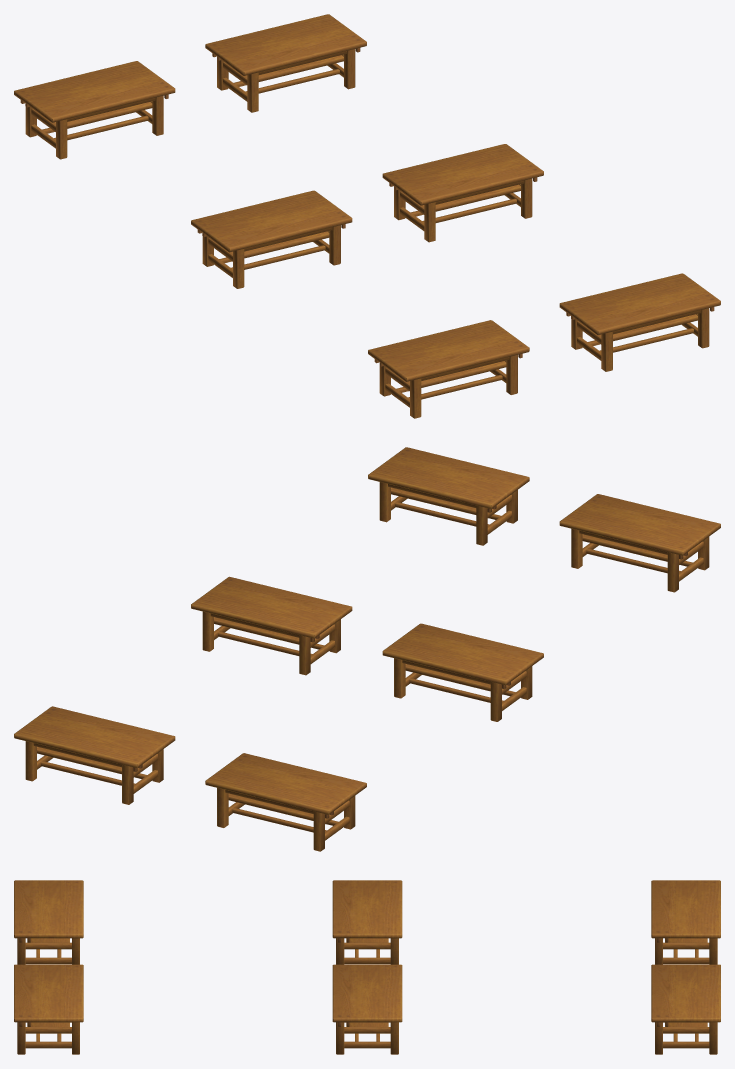
The model's file is Table_2.glb.
3 renders of one model, top to bottom at view 1: azimuth 30°, elevation 25°; view 2: azimuth 150°, elevation 25°; view 3: azimuth 270°, elevation 25°, orthographic. The views are drawn at different scales.
Parts seen in each view (by area): view 1: Table_low__mReBody.002, Table_low__mReBody.004, Table_low__mReBody.001, Table_low__mReBody, Table_low__mReBody.003, Table_low__mReBody.005; view 2: Table_low__mReBody.004, Table_low__mReBody.001, Table_low__mReBody.002, Table_low__mReBody.003, Table_low__mReBody.005, Table_low__mReBody; view 3: Table_low__mReBody.003, Table_low__mReBody, Table_low__mReBody.005, Table_low__mReBody.002, Table_low__mReBody.001, Table_low__mReBody.004.
Part boxes in pixels (x1=…): Table_low__mReBody.002: x1=191, y1=190, x2=352, y2=288; Table_low__mReBody.004: x1=368, y1=320, x2=529, y2=418; Table_low__mReBody.001: x1=14, y1=61, x2=175, y2=159; Table_low__mReBody: x1=205, y1=14, x2=366, y2=112; Table_low__mReBody.003: x1=382, y1=144, x2=543, y2=242; Table_low__mReBody.005: x1=559, y1=273, x2=720, y2=371; Table_low__mReBody.004: x1=559, y1=494, x2=720, y2=592; Table_low__mReBody.001: x1=205, y1=753, x2=366, y2=851; Table_low__mReBody.002: x1=382, y1=623, x2=543, y2=721; Table_low__mReBody.003: x1=191, y1=576, x2=352, y2=675; Table_low__mReBody.005: x1=368, y1=447, x2=529, y2=545; Table_low__mReBody: x1=14, y1=706, x2=175, y2=804; Table_low__mReBody.003: x1=332, y1=964, x2=402, y2=1054; Table_low__mReBody: x1=651, y1=964, x2=720, y2=1054; Table_low__mReBody.005: x1=14, y1=964, x2=83, y2=1054; Table_low__mReBody.002: x1=332, y1=880, x2=402, y2=964; Table_low__mReBody.001: x1=651, y1=880, x2=720, y2=964; Table_low__mReBody.004: x1=14, y1=880, x2=83, y2=964.
Size of the model in its own units: 3.88 by 0.5315 by 8.36.
Materials: 1 (1 with a texture image).
